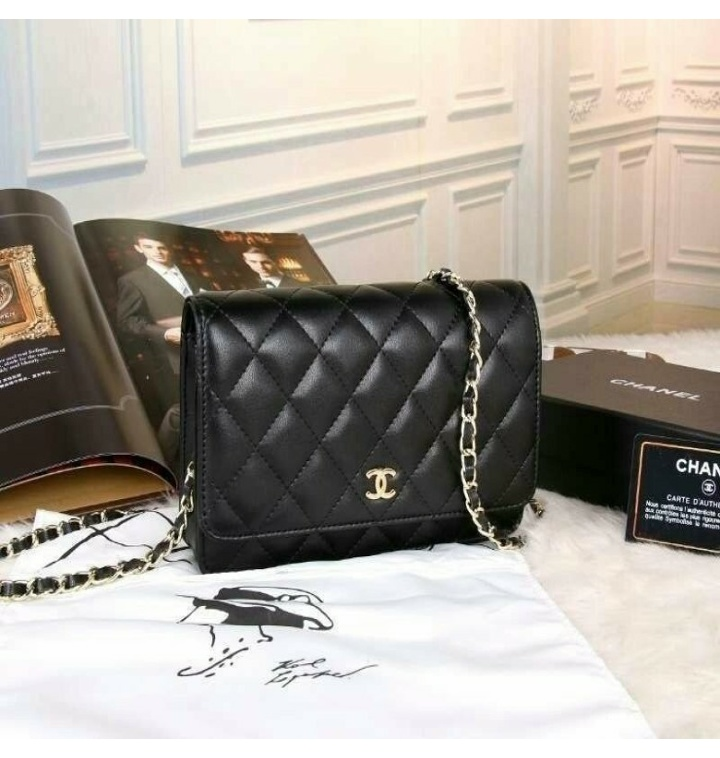channel: (158, 271, 585, 567), (360, 453, 419, 518)
